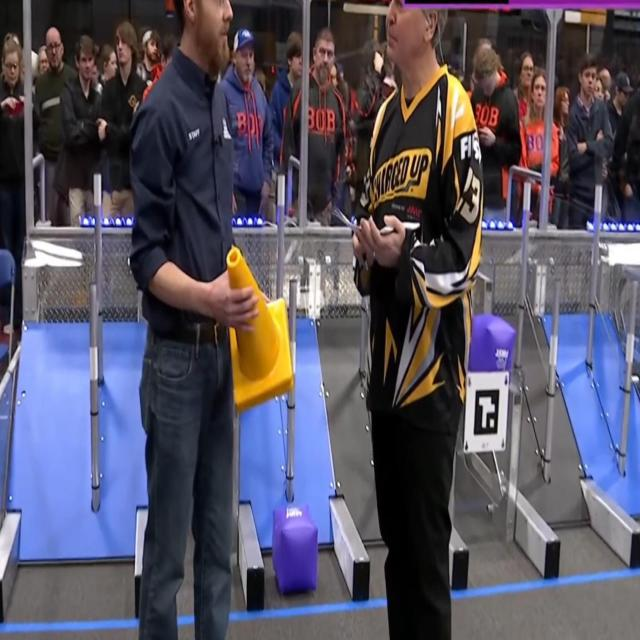frc_cone: (226, 248, 293, 410)
frc_cube: (272, 505, 318, 594), (468, 312, 514, 380)
